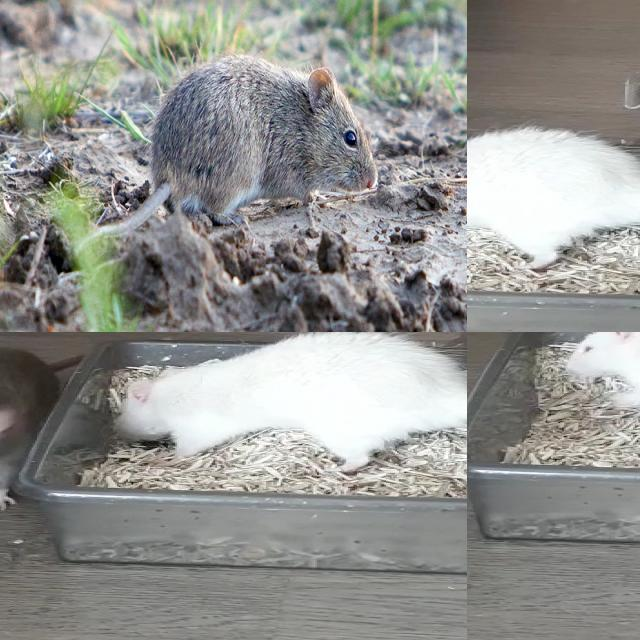rat: (98, 332, 467, 481), (151, 65, 380, 226), (467, 130, 640, 264), (0, 342, 60, 510)
